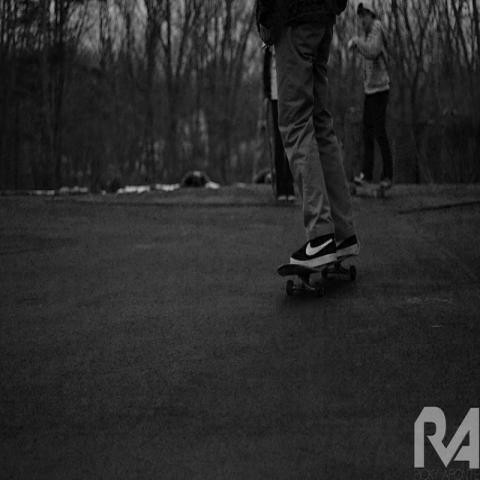car: (176, 170, 222, 190)
